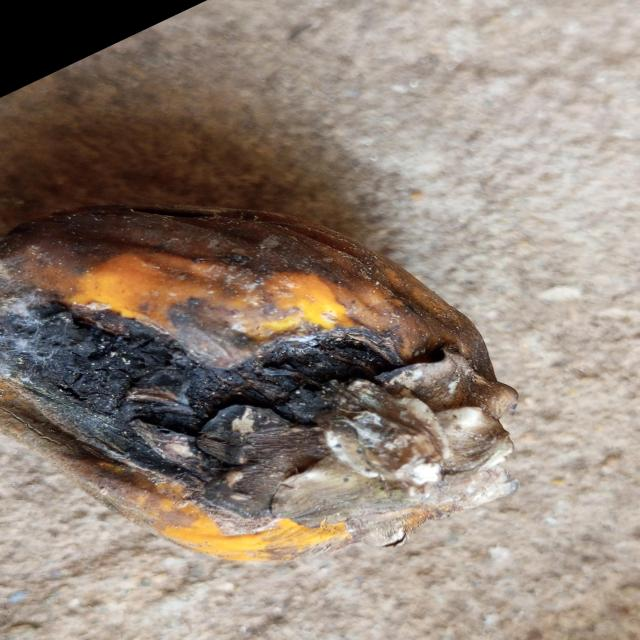damaged: (0, 206, 517, 560)
